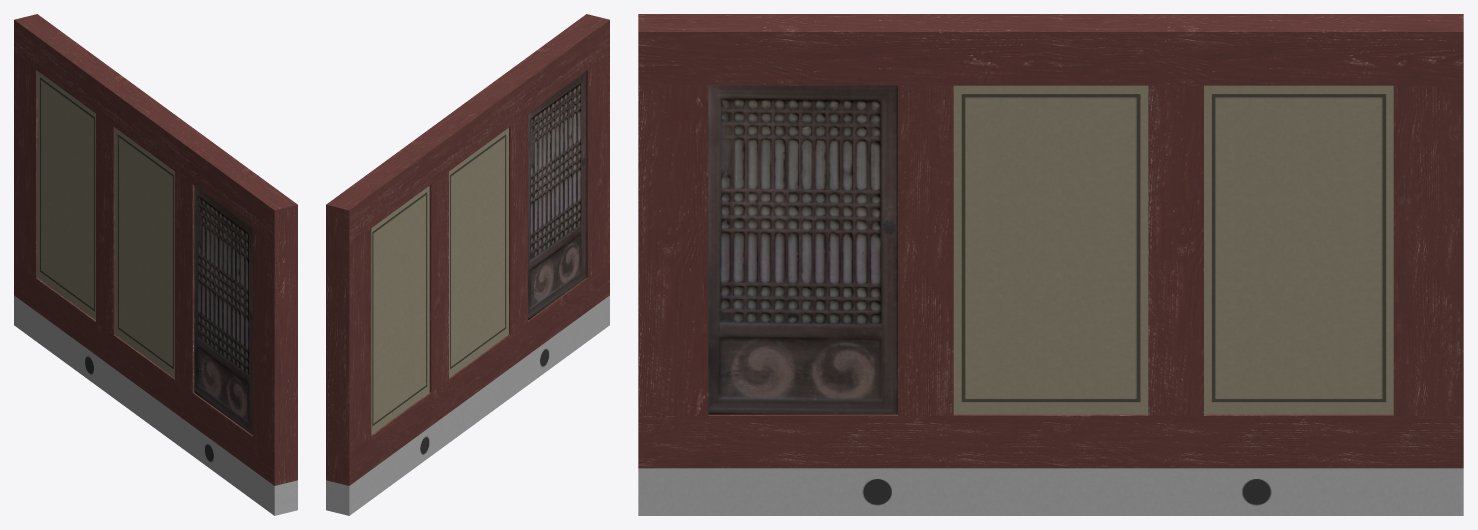
Rendered from SM_Sun_Kak_Wall_B.fbx.
3 renders of one model, left to right at view 1: azimuth 30°, elevation 25°; view 2: azimuth 150°, elevation 25°; view 3: azimuth 270°, elevation 25°, orthographic. The views are drawn at different scales.
Parts seen in each view (by area): view 1: SM_Sun_Kak_Wall_B; view 2: SM_Sun_Kak_Wall_B; view 3: SM_Sun_Kak_Wall_B.
Part boxes in pixels (x1,y1,x2,y2): SM_Sun_Kak_Wall_B: (14, 14, 297, 515); SM_Sun_Kak_Wall_B: (326, 14, 609, 515); SM_Sun_Kak_Wall_B: (638, 14, 1463, 515).
Size of the model in its own units: 15 by 187 by 289.
